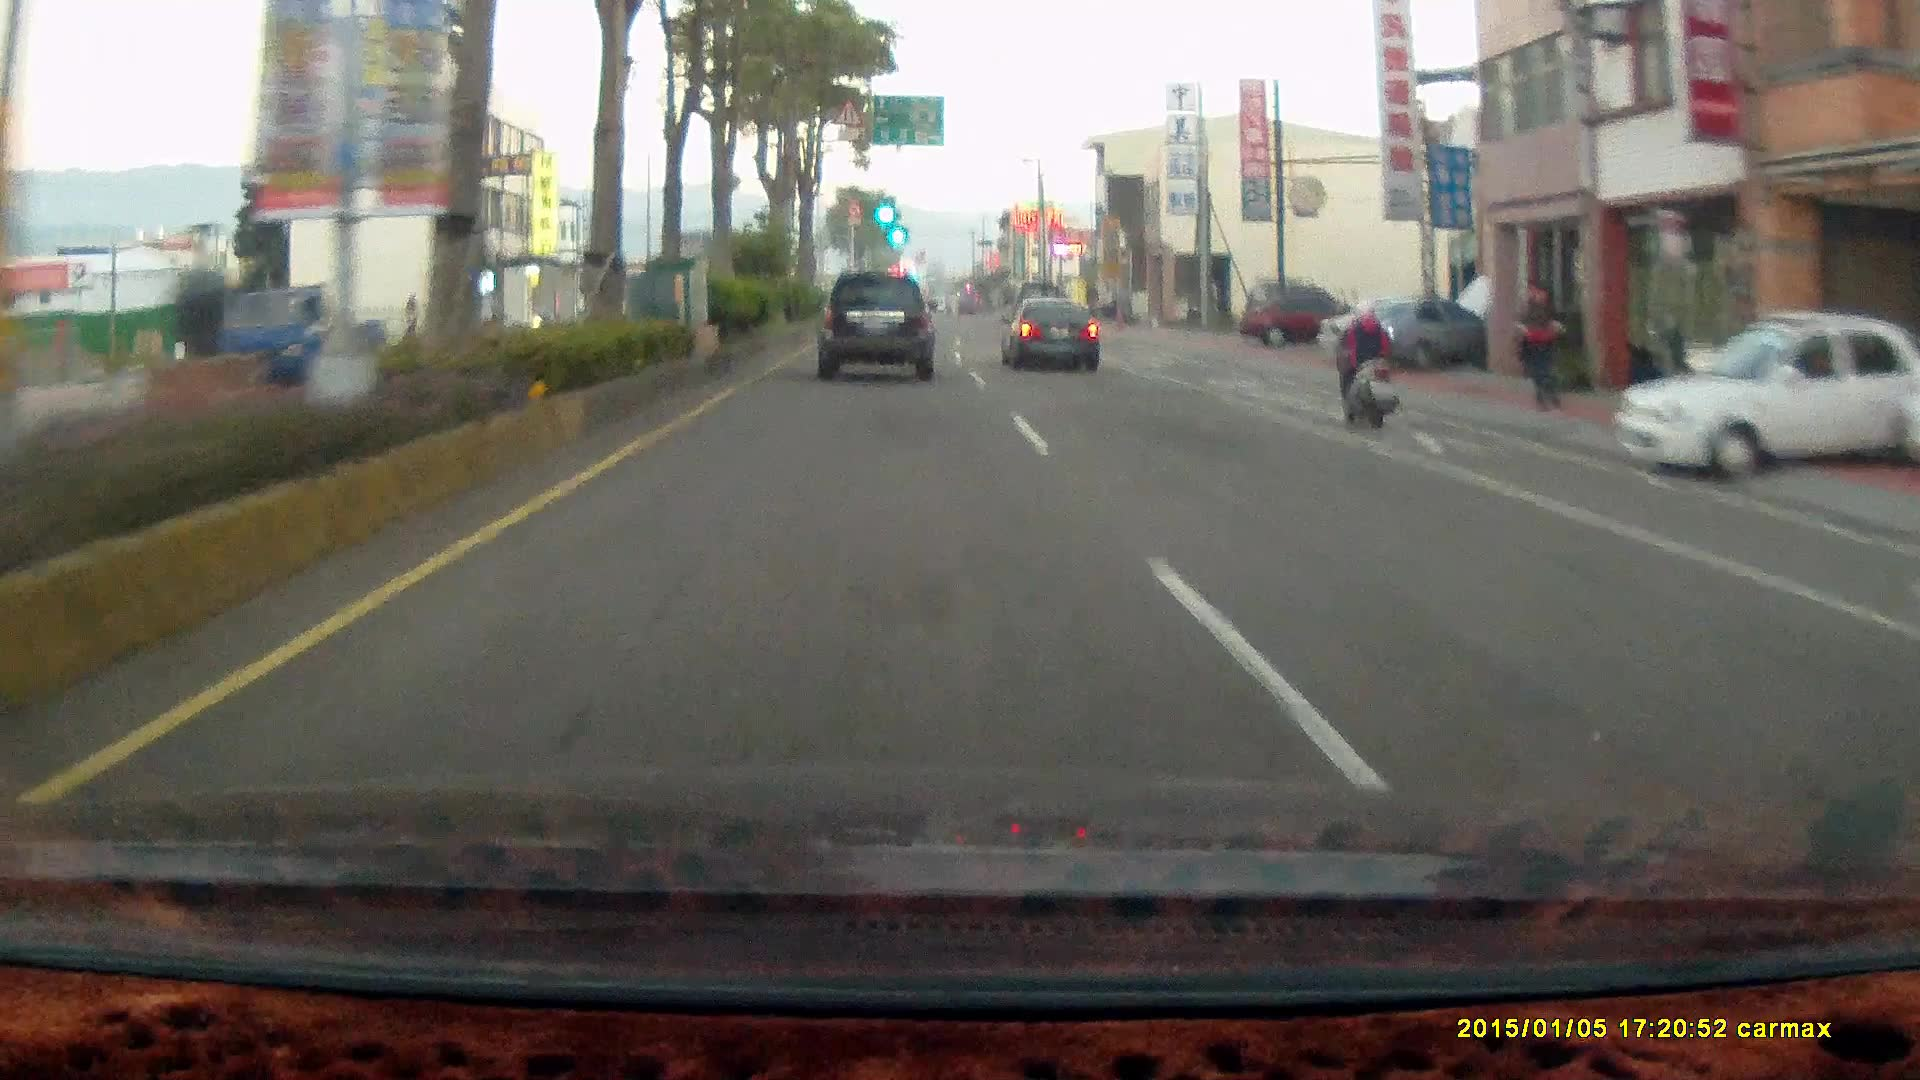pedestrian: (1512, 278, 1573, 412)
rider: (1319, 288, 1413, 442), (1331, 289, 1400, 422)
vehicle: (1619, 315, 1920, 490), (1609, 312, 1920, 481), (203, 283, 388, 403), (814, 269, 942, 386), (1319, 293, 1497, 373), (1317, 296, 1498, 374), (815, 273, 938, 382), (1236, 292, 1381, 352), (1001, 297, 1104, 374), (1236, 292, 1380, 347), (999, 297, 1100, 371)
